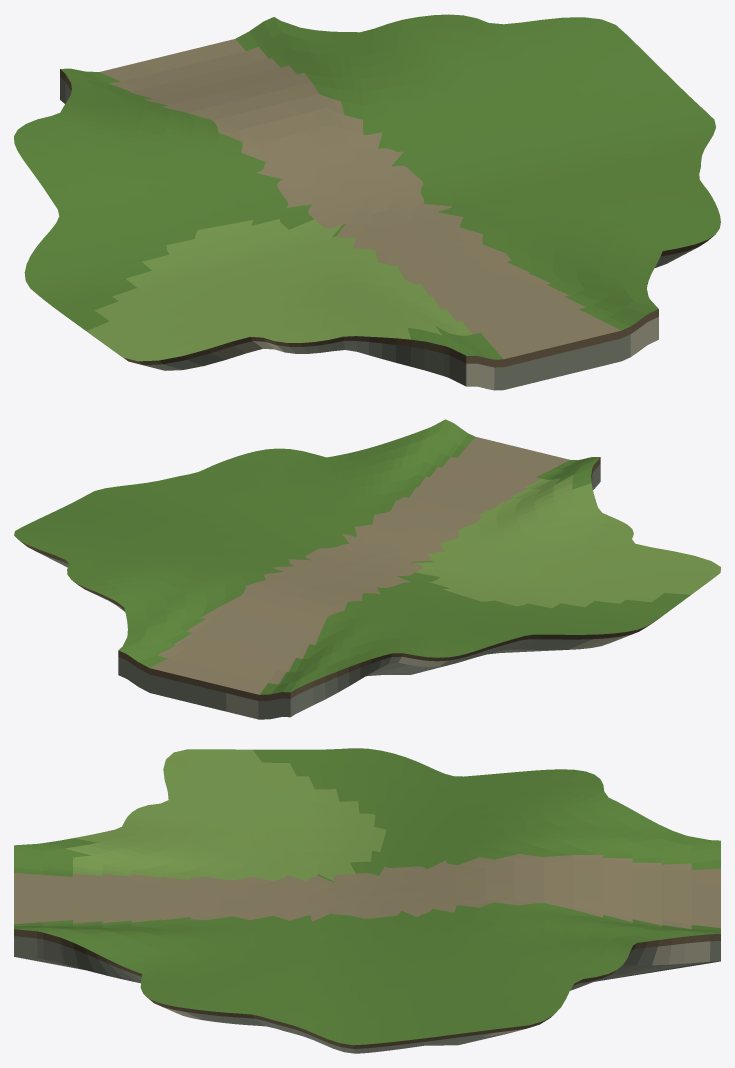
The model's file is cliff_overlook_gate_structure.fbx.
3 views of the same model, one above another, from view 1: azimuth 30°, elevation 25°; view 2: azimuth 150°, elevation 25°; view 3: azimuth 270°, elevation 25° (orthographic). The views are drawn at different scales.
Visible parts, largest first — view 1: chunk_cliff_overlook_gate; view 2: chunk_cliff_overlook_gate; view 3: chunk_cliff_overlook_gate.
Part boxes in pixels (box(x1,y1,x2,y2)): chunk_cliff_overlook_gate: box(14, 14, 720, 390); chunk_cliff_overlook_gate: box(14, 419, 720, 719); chunk_cliff_overlook_gate: box(14, 748, 720, 1053).
Size of the model in its own units: 256 by 54.42 by 256.
